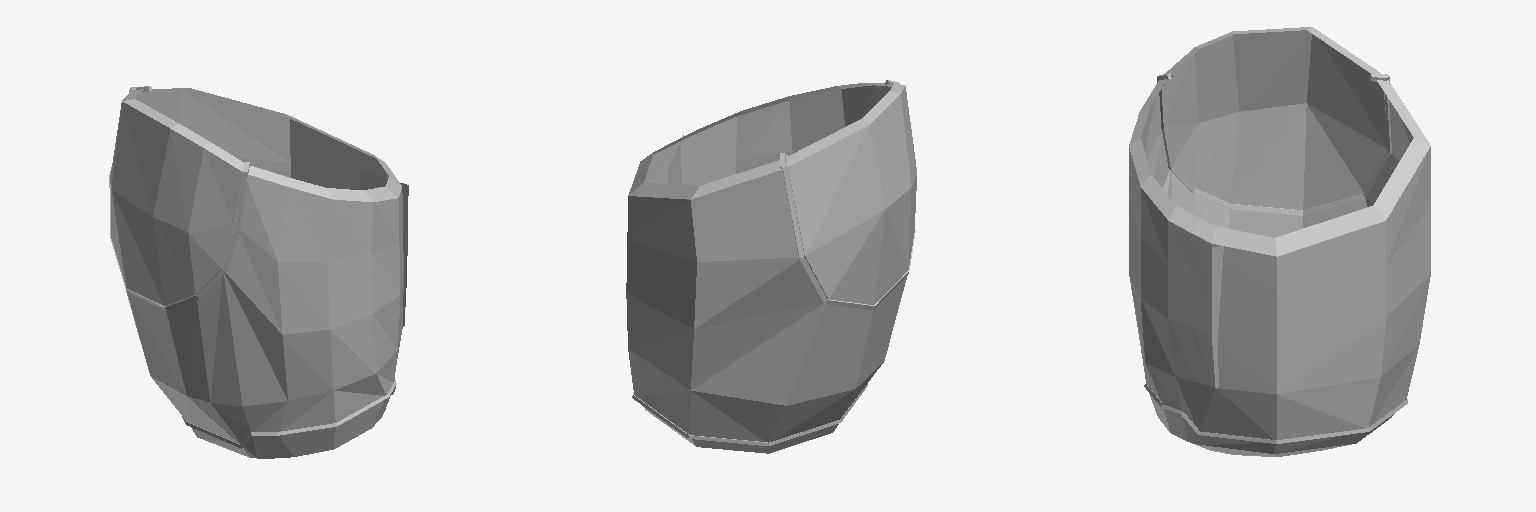
Rendered from baymax_rightleg.obj.
3 renders of one model, left to right at view 1: azimuth 30°, elevation 25°; view 2: azimuth 150°, elevation 25°; view 3: azimuth 270°, elevation 25°, orthographic.
Parts seen in each view (by area): view 1: Bigmax_White_OBJ.006; view 2: Bigmax_White_OBJ.006; view 3: Bigmax_White_OBJ.006.
Part boxes in pixels (x1,y1,x2,y2): Bigmax_White_OBJ.006: (109, 86, 408, 458); Bigmax_White_OBJ.006: (626, 80, 916, 453); Bigmax_White_OBJ.006: (1129, 27, 1430, 456).
Bounding box in the file's own units: 16.85 × 21.29 × 16.8.